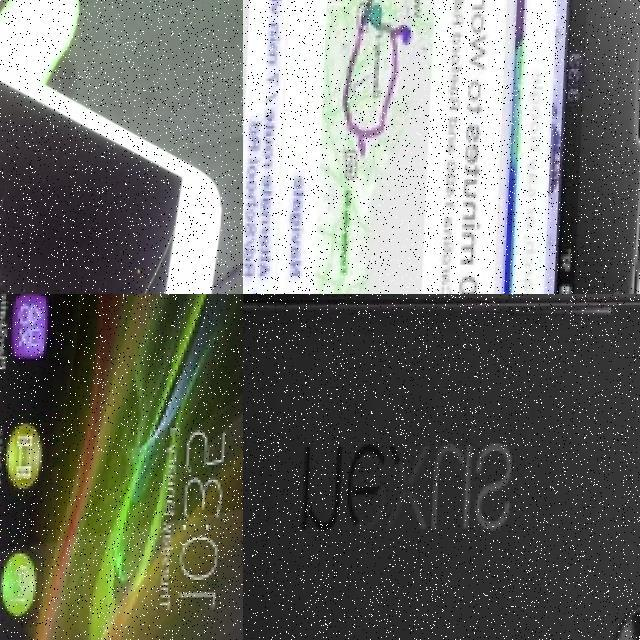screen crack: (0, 197, 195, 294)
